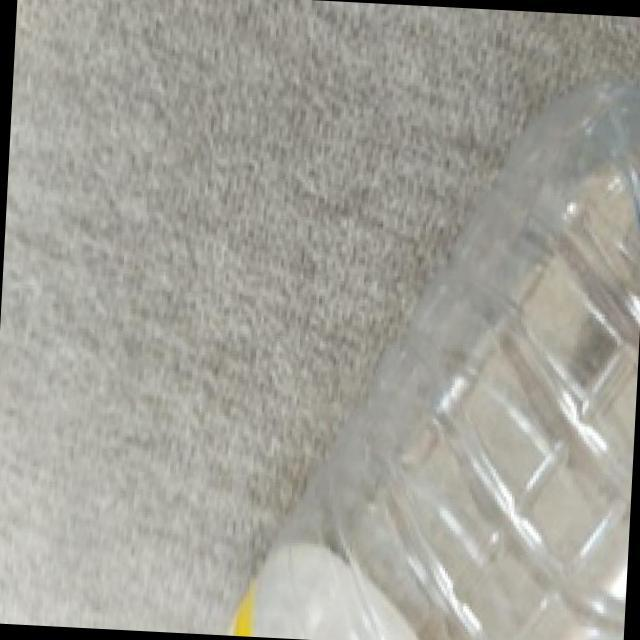good: (170, 55, 640, 640)
